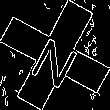N_NE: (25, 23, 85, 87)
